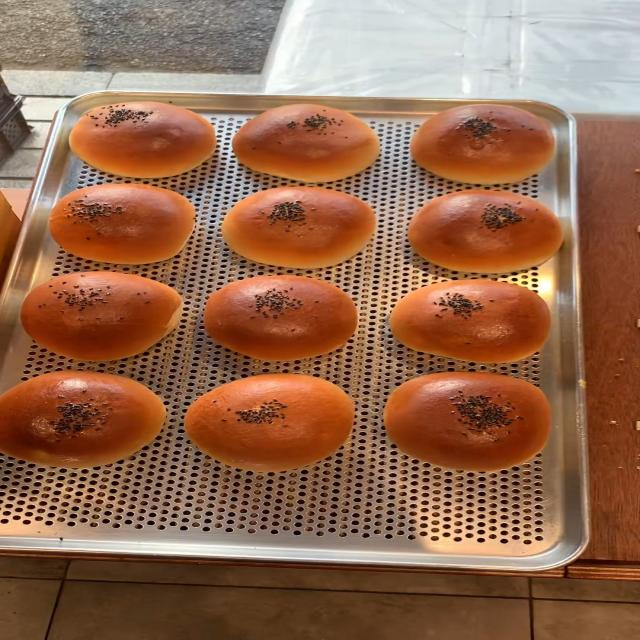bread: (386, 373, 550, 470), (189, 376, 353, 472), (383, 276, 553, 365), (1, 372, 163, 464), (220, 185, 381, 273), (21, 272, 184, 358), (411, 187, 566, 273), (407, 98, 557, 184), (205, 275, 356, 359), (44, 182, 195, 264), (64, 95, 214, 176), (235, 105, 392, 181)
